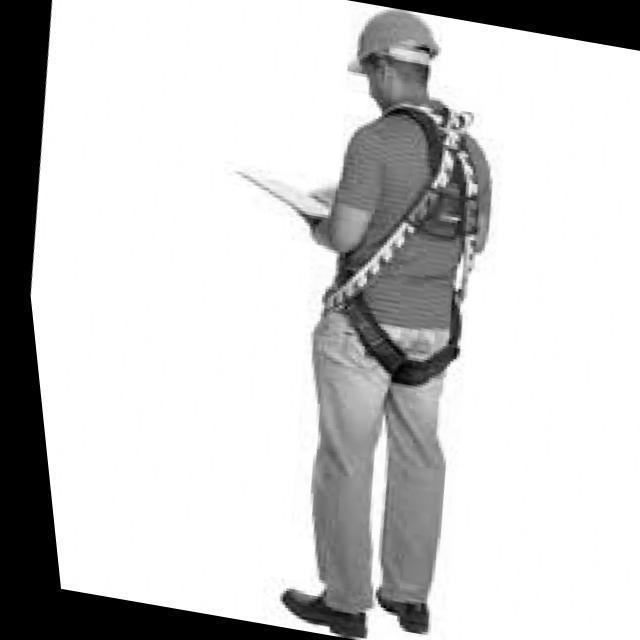Arnes_seguridad: (323, 102, 491, 385)
